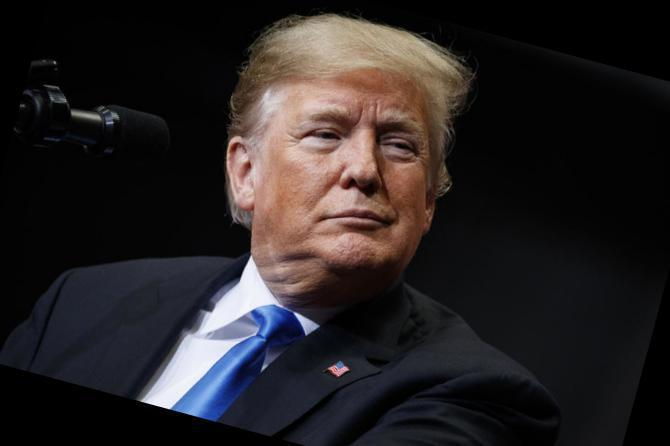Sober: (268, 81, 428, 263)
